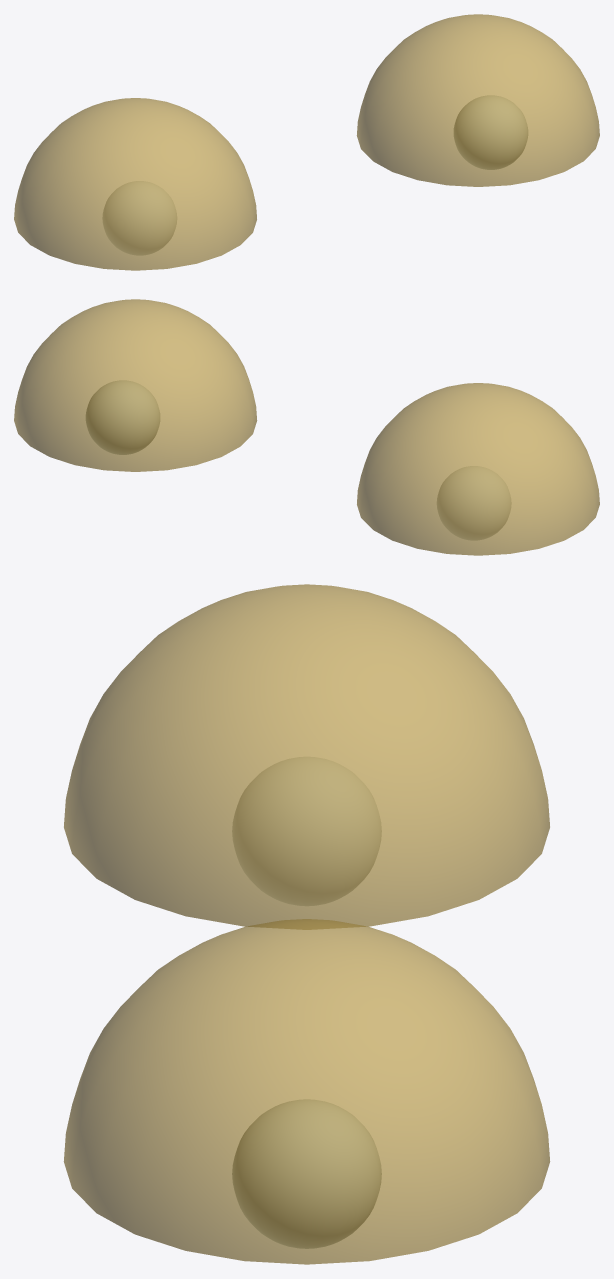
File: geom-nested.gltf
The picture shows the model from 3 angles, top to bottom: view 1: azimuth 30°, elevation 25°; view 2: azimuth 150°, elevation 25°; view 3: azimuth 270°, elevation 25°; orthographic projection. The views are drawn at different scales.
Visible parts, largest first — view 1: Sphere (×2), Sphere1 (×2); view 2: Sphere (×2), Sphere1 (×2); view 3: Sphere (×2), Sphere1 (×2).
Part boxes in pixels (x1,y1,x2,y2): Sphere (×2): (14,14,599,270); Sphere1 (×2): (103,95,527,254); Sphere (×2): (14,299,599,555); Sphere1 (×2): (86,380,510,539); Sphere (×2): (63,584,550,1264); Sphere1 (×2): (232,757,381,1248).
Size of the model in its own units: 2.63 by 0.654 by 1.
